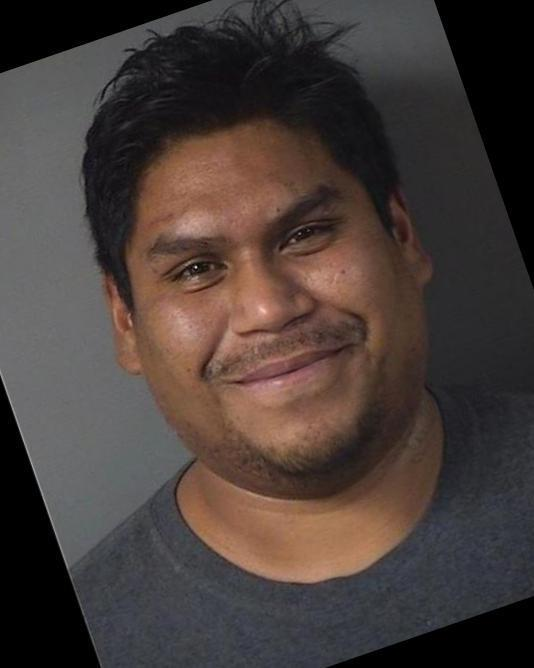Sober: (129, 156, 418, 469)
